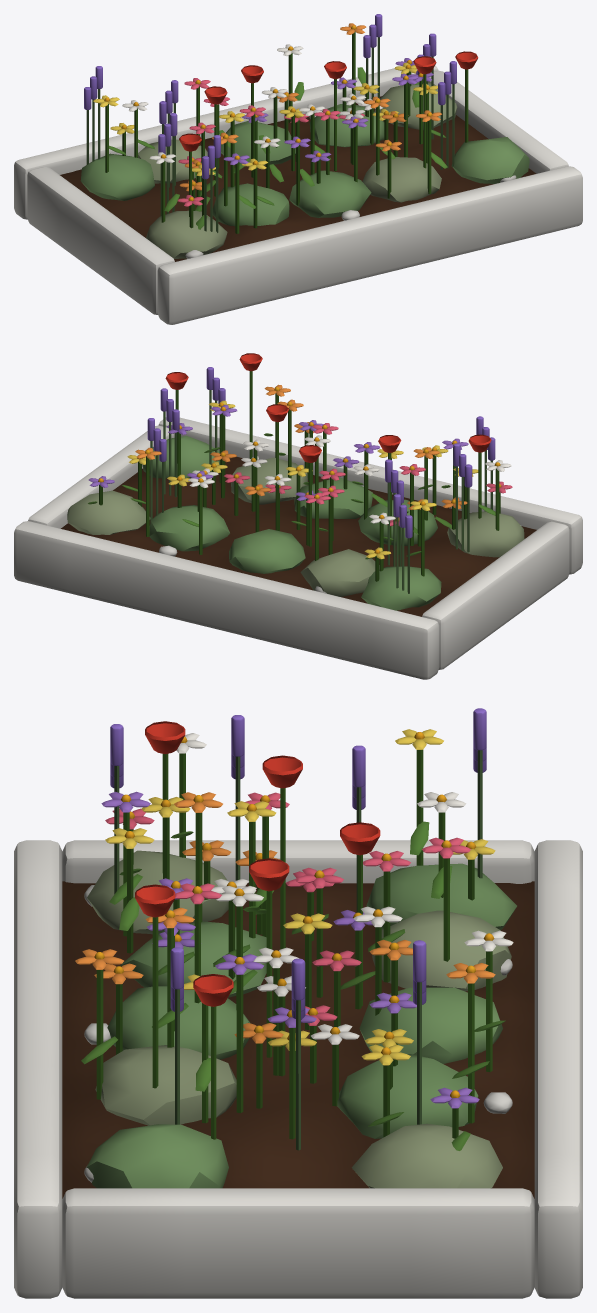
Rendered from obj_kit_flowerbed.glb.
3 renders of one model, top to bottom at view 1: azimuth 30°, elevation 25°; view 2: azimuth 150°, elevation 25°; view 3: azimuth 270°, elevation 25°, orthographic. The views are drawn at different scales.
Parts seen in each view (by area): view 1: Cube.003, soil, Cube.002, Cube.001, Cube, Icosphere.004, Icosphere.005, Icosphere.002, Icosphere, Icosphere.003, Icosphere.001, Icosphere.007 (+3 smaller); view 2: Cube.001, soil, Cube.002, Cube.003, Cube, Icosphere.007, Icosphere.008, Icosphere.009, Icosphere.005, Icosphere.006, Icosphere, Icosphere.002 (+3 smaller); view 3: Cube, soil, Cube.001, Cube.003, Cube.002, Icosphere.004, Icosphere.009, Icosphere.003, Icosphere.008, Icosphere.007, Icosphere.006, Icosphere.005 (+19 smaller).
Part boxes in pixels (x1,y1,x2,y2): Cube.003: (157,166,582,324); soil: (60,96,536,261); Cube.002: (27,167,174,314); Cube.001: (14,65,438,219); Cube: (423,70,568,173); Icosphere.004: (451,137,529,183); Icosphere.005: (80,153,154,200); Icosphere.002: (289,170,371,217); Icosphere: (146,210,227,258); Icosphere.003: (362,157,441,202); Icosphere.001: (212,183,289,226); Icosphere.007: (221,120,295,165); Cube.001: (14,521,439,679); soil: (61,456,536,616); Cube.002: (422,521,569,669); Cube.003: (158,417,582,574); Cube: (28,425,174,528); Icosphere.007: (229,529,305,573); Icosphere.008: (149,505,229,551); Icosphere.009: (67,490,150,534); Icosphere.005: (361,566,441,610); Icosphere.006: (300,549,379,596); Icosphere: (447,511,524,557); Icosphere.002: (294,477,372,518); Cube: (62,1188,534,1298); soil: (62,881,534,1198); Cube.001: (534,840,582,1298); Cube.003: (14,840,62,1298); Cube.002: (62,840,534,883); Icosphere.004: (86,1124,228,1188); Icosphere.009: (351,1123,502,1188); Icosphere.003: (95,1045,236,1125); Icosphere.008: (337,1054,478,1138); Icosphere.007: (359,987,502,1063); Icosphere.006: (372,910,511,991); Icosphere.005: (366,863,516,929).
Bounding box in the file's own units: 1.44 × 0.5522 × 0.94.
